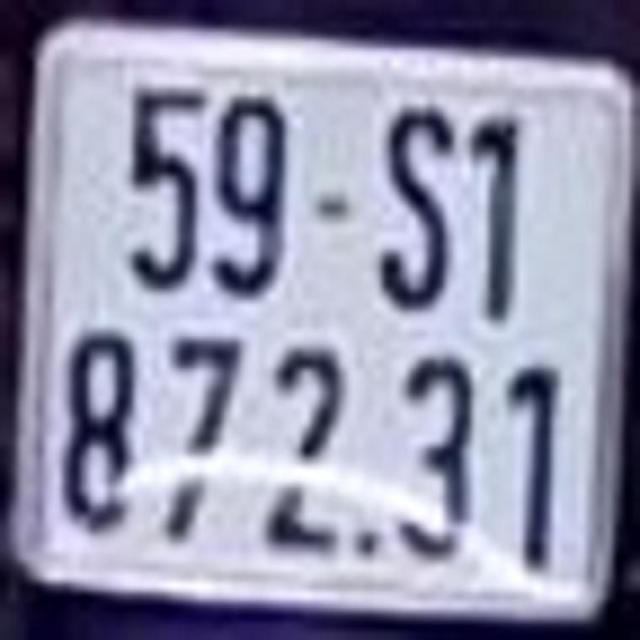1: (507, 352, 560, 571), (467, 122, 517, 320)
2: (267, 343, 344, 552)
3: (398, 352, 481, 562)
5: (133, 84, 198, 286)
7: (167, 336, 245, 531)
8: (64, 335, 134, 522)
9: (218, 97, 283, 298)
S: (381, 106, 448, 305)
